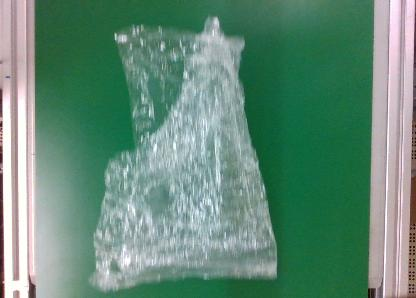Others: (84, 15, 280, 294)
